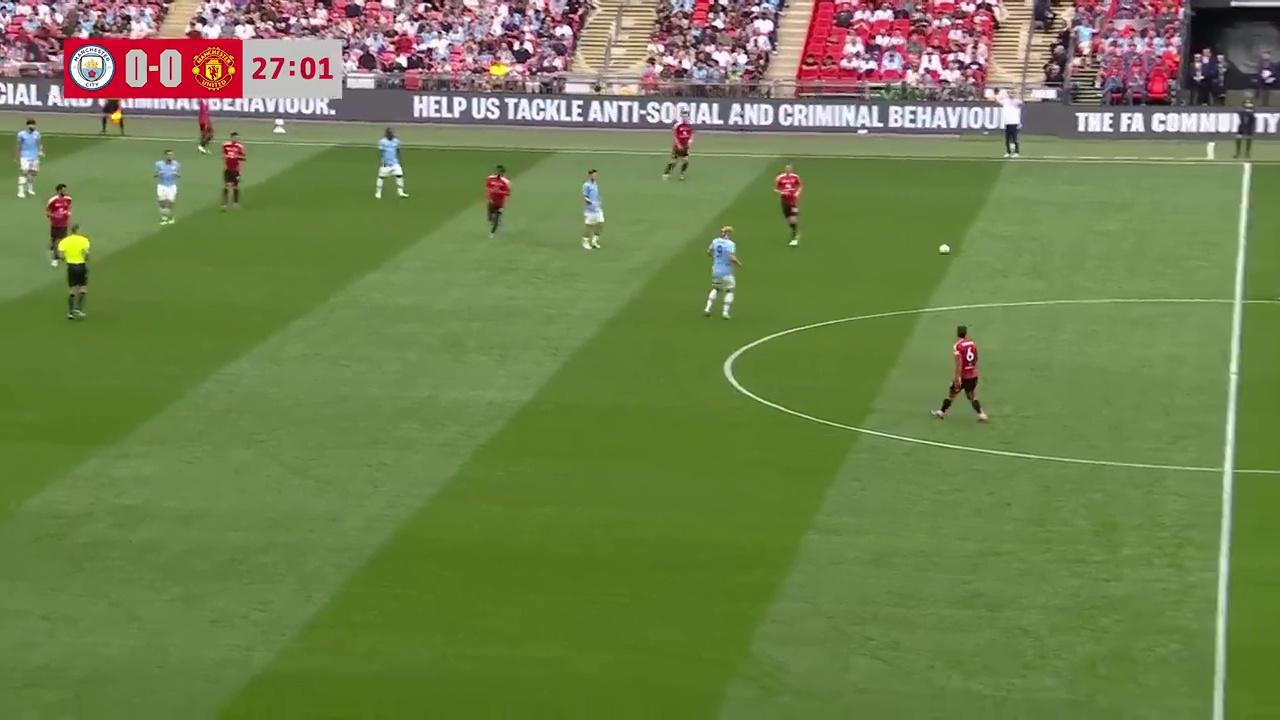ball: (937, 240, 952, 255)
player: (933, 325, 989, 423), (703, 225, 742, 319), (374, 127, 408, 199), (774, 163, 802, 246), (44, 183, 72, 266), (662, 116, 695, 180), (153, 149, 180, 225), (220, 131, 246, 208), (581, 168, 604, 251), (15, 123, 39, 198), (485, 165, 510, 236), (16, 118, 43, 174), (197, 102, 215, 153)
referee: (61, 222, 92, 320), (99, 99, 128, 137)
